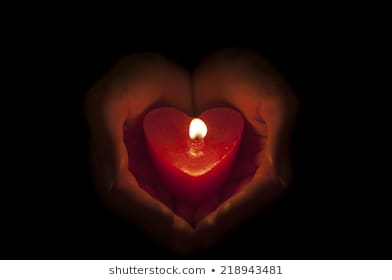Fire: (187, 114, 208, 139)
